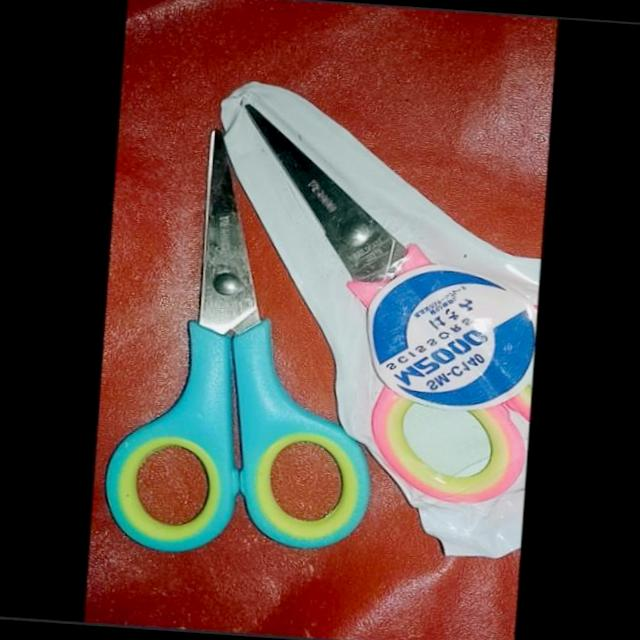scissors: (78, 118, 374, 574)
